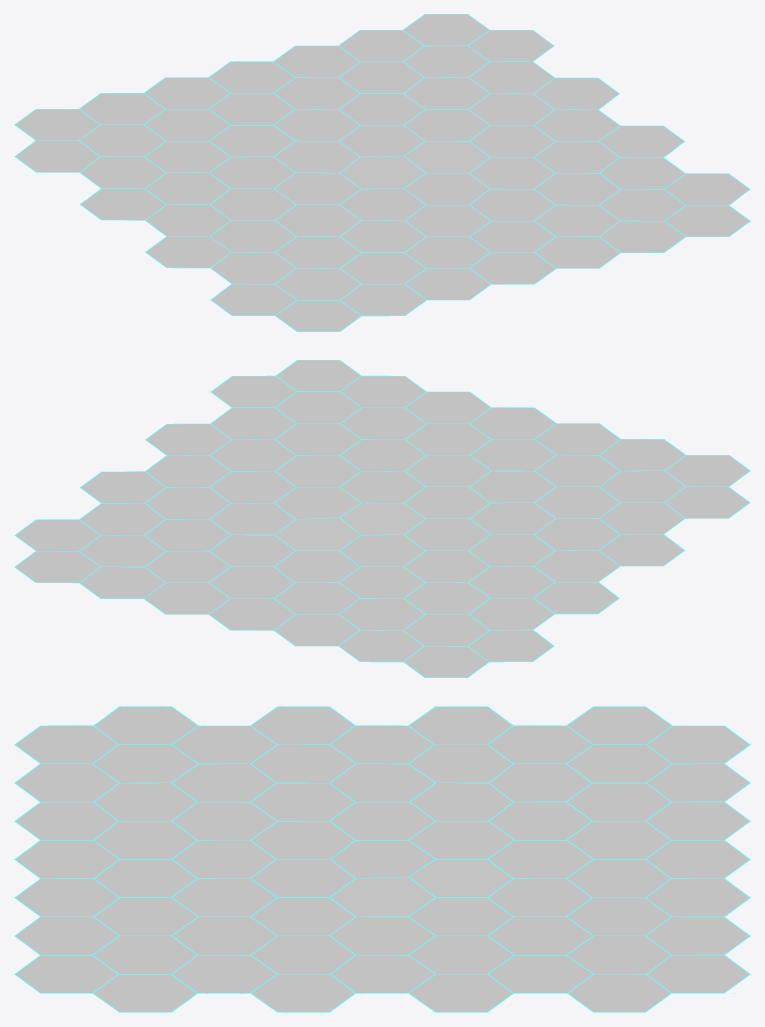
The model's file is My field.fbx.
3 renders of one model, top to bottom at view 1: azimuth 30°, elevation 25°; view 2: azimuth 150°, elevation 25°; view 3: azimuth 270°, elevation 25°, orthographic. The views are drawn at different scales.
Parts seen in each view (by area): view 1: Plane.150; view 2: Plane.150; view 3: Plane.150.
Boxes of the visible parts, left/top/right/bottom form: Plane.150: left=14, top=14, right=750, bottom=331; Plane.150: left=14, top=360, right=750, bottom=677; Plane.150: left=14, top=706, right=750, bottom=1012.
Size of the model in its own units: 4789 by 11.07 by 4870.
